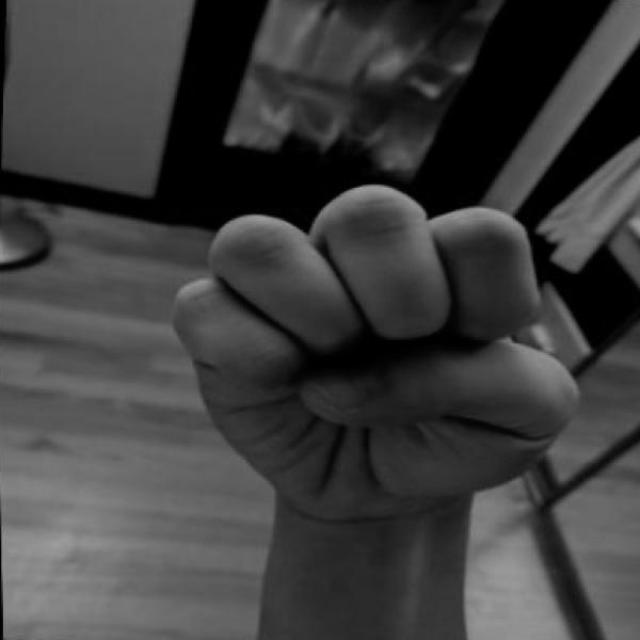E: (139, 171, 594, 574)
